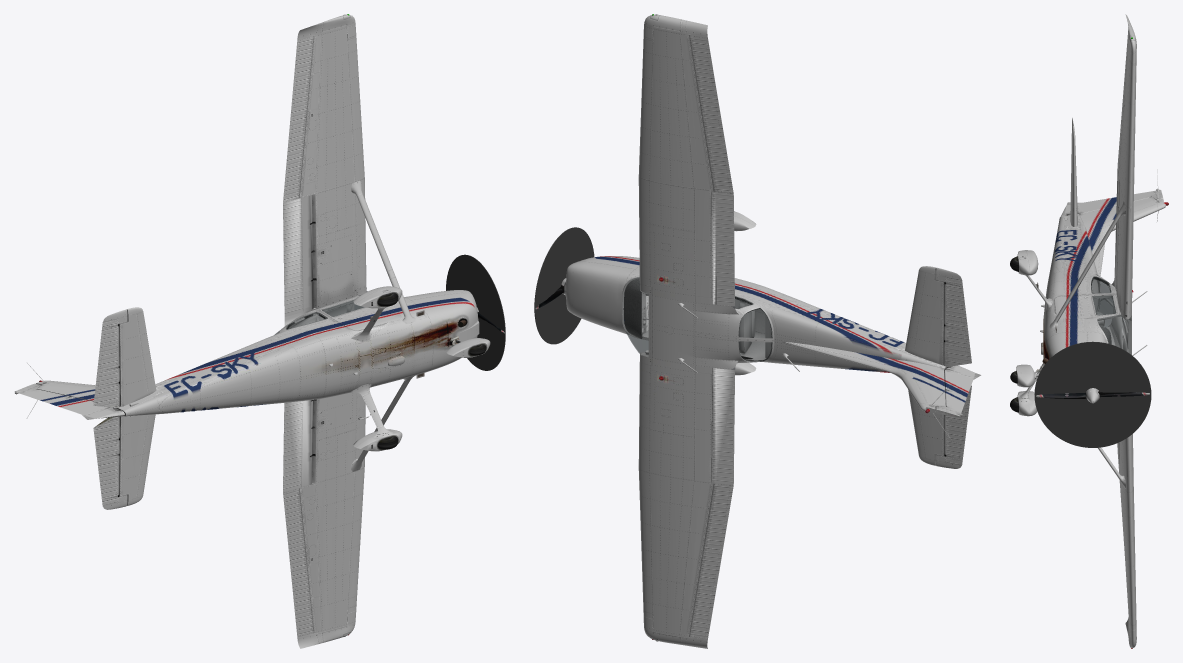
Rendered from exterior.glb.
3 views of the same model, side by side, from view 1: azimuth 30°, elevation 25°; view 2: azimuth 150°, elevation 25°; view 3: azimuth 270°, elevation 25° (orthographic). The views are drawn at different scales.
Parts seen in each view (by area): view 1: airframe, fuselage, elevator, flap_right, propeller_disc, cowling, aileron_right, aileron_left, flap_left, rudder; view 2: airframe, fuselage, cowling, propeller_disc, elevator, aileron_left, aileron_right, flap_left, flap_right, rudder; view 3: propeller_disc, fuselage, airframe, cowling, rudder, propeller, fork_right, fork_left, fork_nose, flap_right, aileron_right.
Part boxes in pixels (x1=…): airframe: x1=39, y1=14, x2=410, y2=648; fuselage: x1=26, y1=291, x2=434, y2=418; elevator: x1=93, y1=309, x2=127, y2=509; flap_right: x1=283, y1=195, x2=313, y2=316; propeller_disc: x1=446, y1=254, x2=505, y2=370; cowling: x1=404, y1=290, x2=479, y2=370; aileron_right: x1=283, y1=36, x2=314, y2=202; aileron_left: x1=283, y1=487, x2=314, y2=637; flap_left: x1=283, y1=400, x2=313, y2=491; rudder: x1=14, y1=383, x2=124, y2=419; airframe: x1=638, y1=14, x2=943, y2=648; fuselage: x1=622, y1=265, x2=951, y2=440; cowling: x1=564, y1=256, x2=639, y2=334; propeller_disc: x1=534, y1=227, x2=594, y2=344; elevator: x1=935, y1=267, x2=971, y2=468; aileron_left: x1=689, y1=483, x2=733, y2=639; aileron_right: x1=689, y1=35, x2=733, y2=193; flap_left: x1=711, y1=368, x2=734, y2=484; flap_right: x1=711, y1=191, x2=734, y2=306; rudder: x1=935, y1=365, x2=981, y2=416; propeller_disc: x1=1034, y1=341, x2=1151, y2=447; fuselage: x1=1040, y1=169, x2=1165, y2=365; airframe: x1=1054, y1=14, x2=1168, y2=648; cowling: x1=1042, y1=332, x2=1108, y2=364; rudder: x1=1061, y1=188, x2=1163, y2=216; propeller: x1=1036, y1=388, x2=1149, y2=403; fork_right: x1=1017, y1=250, x2=1038, y2=275; fork_left: x1=1017, y1=391, x2=1037, y2=416; fork_nose: x1=1016, y1=364, x2=1034, y2=387; flap_right: x1=1114, y1=168, x2=1119, y2=290; aileron_right: x1=1117, y1=28, x2=1128, y2=172.
Bounding box in the file's own units: 8.25 × 11.01 × 2.59.
Materials: 12 (10 with a texture image).
